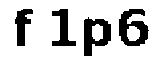1: (48, 5, 78, 52)
6: (116, 4, 150, 51)
f: (11, 6, 36, 54)
p: (79, 14, 114, 60)
